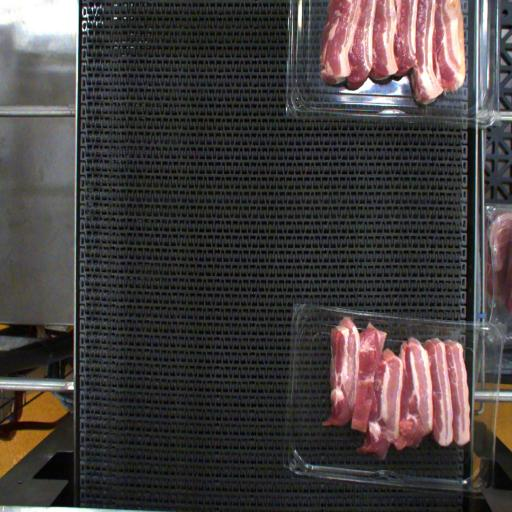twisted-meat: (358, 327, 382, 430)
